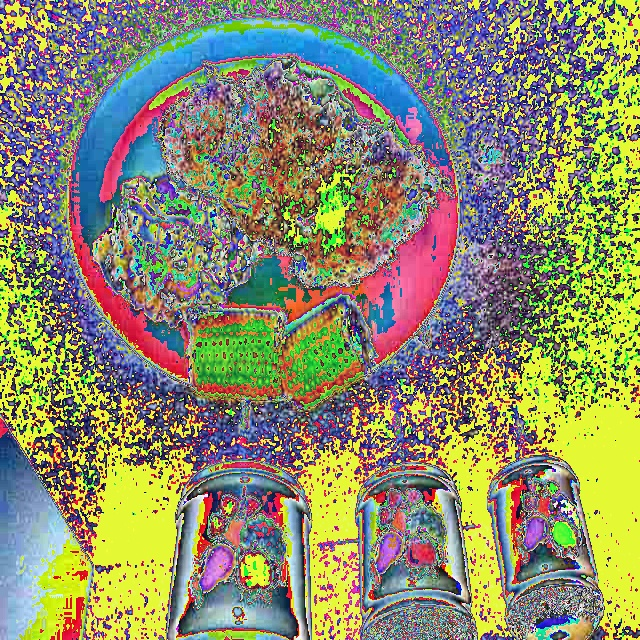background: (92, 56, 453, 413)
